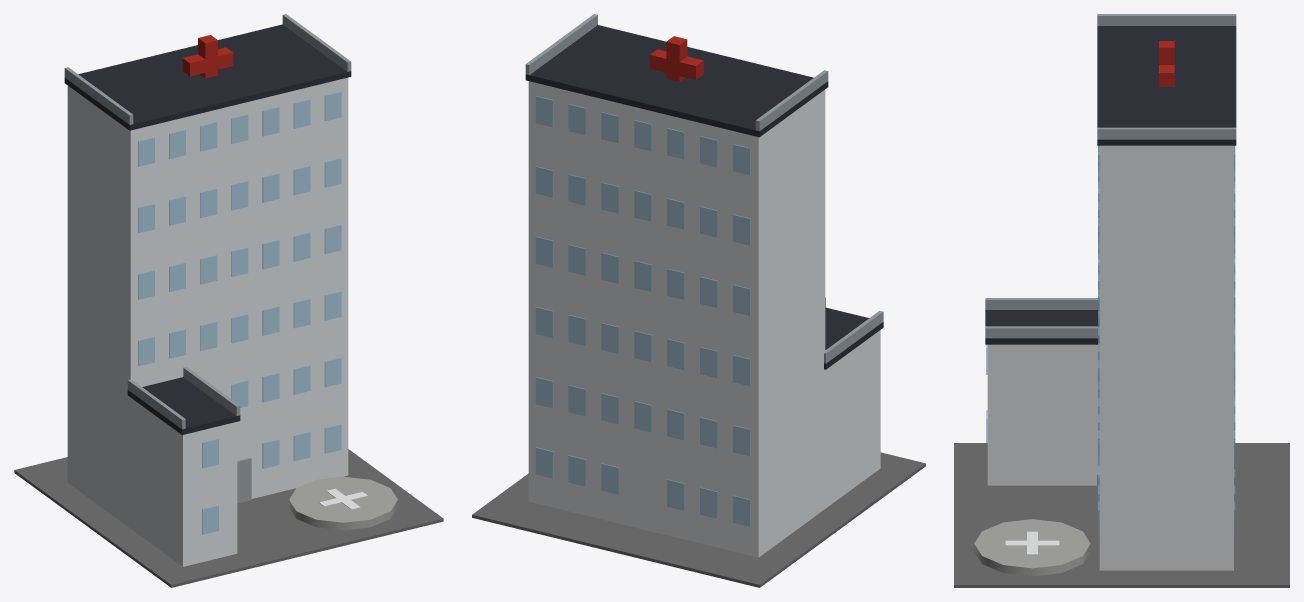
Rendered from bld_special_hospital_a08.glb.
3 views of the same model, side by side, from view 1: azimuth 30°, elevation 25°; view 2: azimuth 150°, elevation 25°; view 3: azimuth 270°, elevation 25° (orthographic). The views are drawn at different scales.
Visible parts, largest first — view 1: body; view 2: body; view 3: body.
Part boxes in pixels (bbox=[...]): body: bbox=[14, 14, 443, 587]; body: bbox=[472, 14, 925, 587]; body: bbox=[954, 14, 1289, 587].
Size of what is drawn, in the model's own units: 15 by 23.3 by 15.
